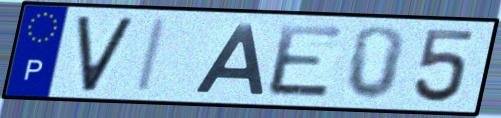0: (344, 24, 408, 104)
5: (412, 28, 478, 105)
A: (189, 20, 267, 96)
E: (265, 22, 347, 101)
I: (132, 17, 171, 95)
V: (74, 14, 138, 94)
